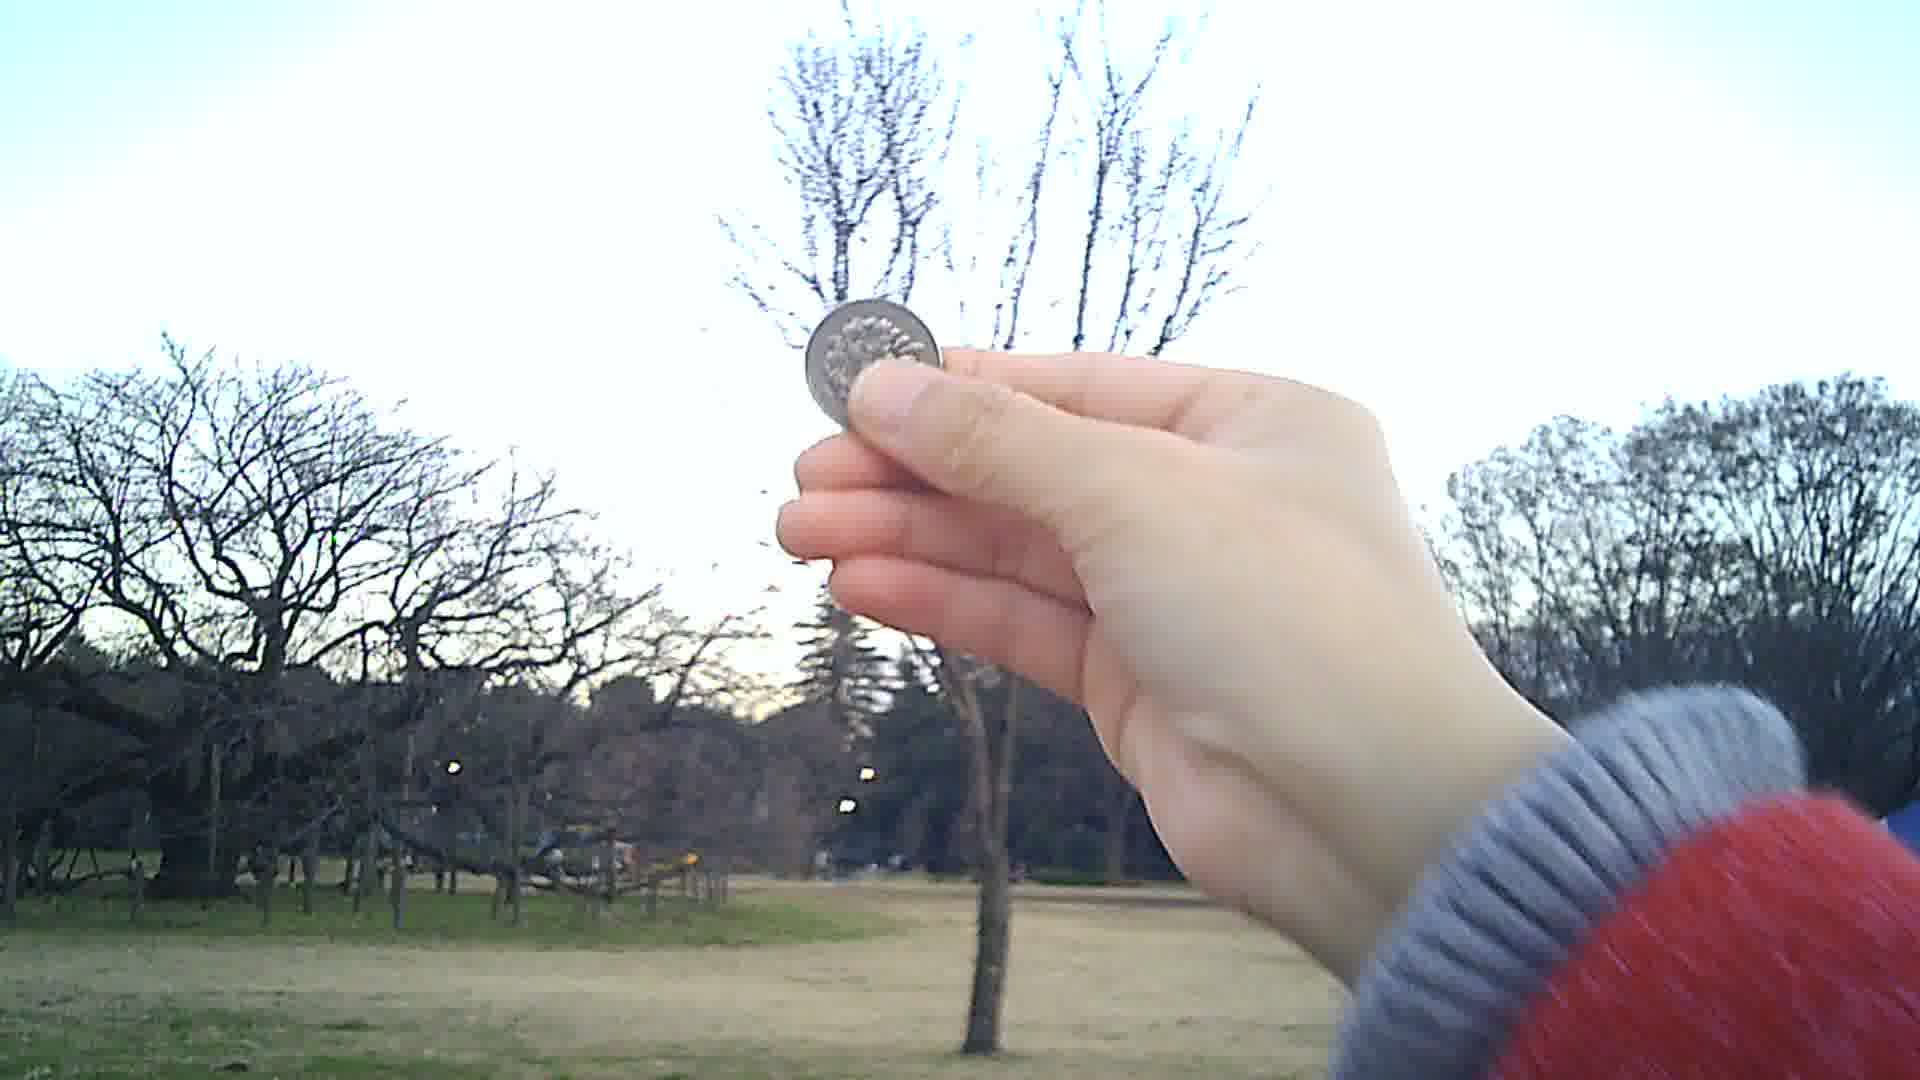100 Yen: (796, 294, 947, 433)
